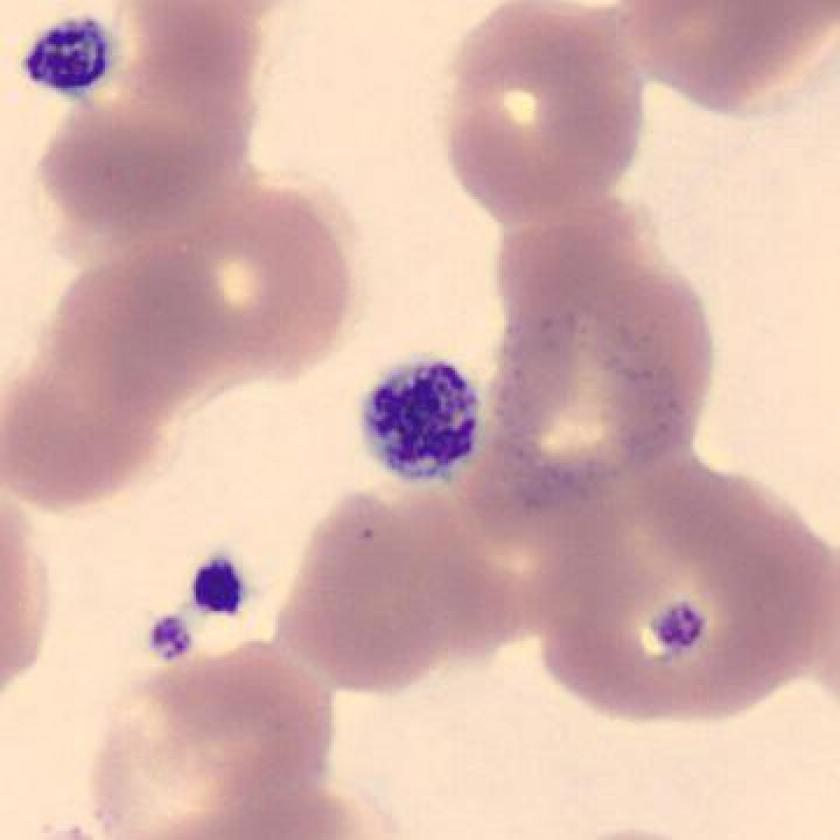platelets: (351, 344, 489, 499), (17, 10, 125, 112), (181, 538, 260, 633), (640, 587, 722, 672), (144, 600, 200, 679)
